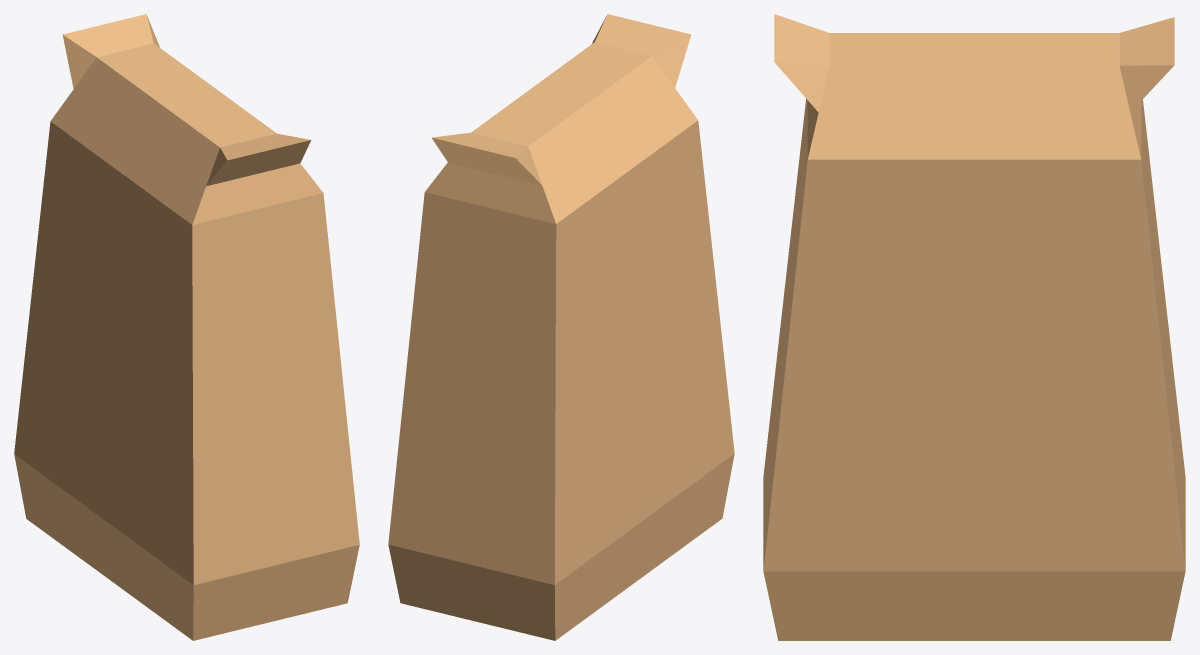
File: bag.fbx
The picture shows the model from 3 angles, left to right: view 1: azimuth 30°, elevation 25°; view 2: azimuth 150°, elevation 25°; view 3: azimuth 270°, elevation 25°; orthographic projection. The views are drawn at different scales.
Parts seen in each view (by area): view 1: bag; view 2: bag; view 3: bag.
Part boxes in pixels (bbox=[...]): bag: bbox=[14, 14, 359, 640]; bag: bbox=[388, 14, 734, 640]; bag: bbox=[763, 14, 1185, 640].
Size of the model in its own units: 2.2 by 6 by 4.12.
